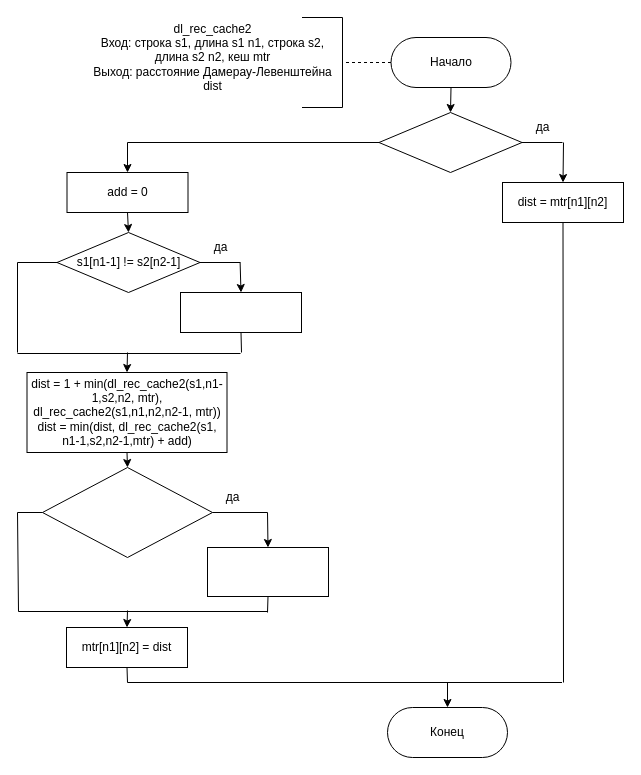
The diagram is 641 pixels wide and 775 high, and some of its shapes have lost their labels. The shapes that lost their labels are listed below. From the top down, each one's centre as x and y in pixels, then its label:
[450,142]: mtr[n1][n2] != -1
[241,312]: add = 1
[127,512]: i > 1 && j > 1 && s1[n1-1]==s2[n2-2] && s1[n1-2]==s2[n2-1]
[267,571]: dist = min(dist, dl_rec_cache2(s1,n1-2,s2,n2-2, mtr) + 1)
